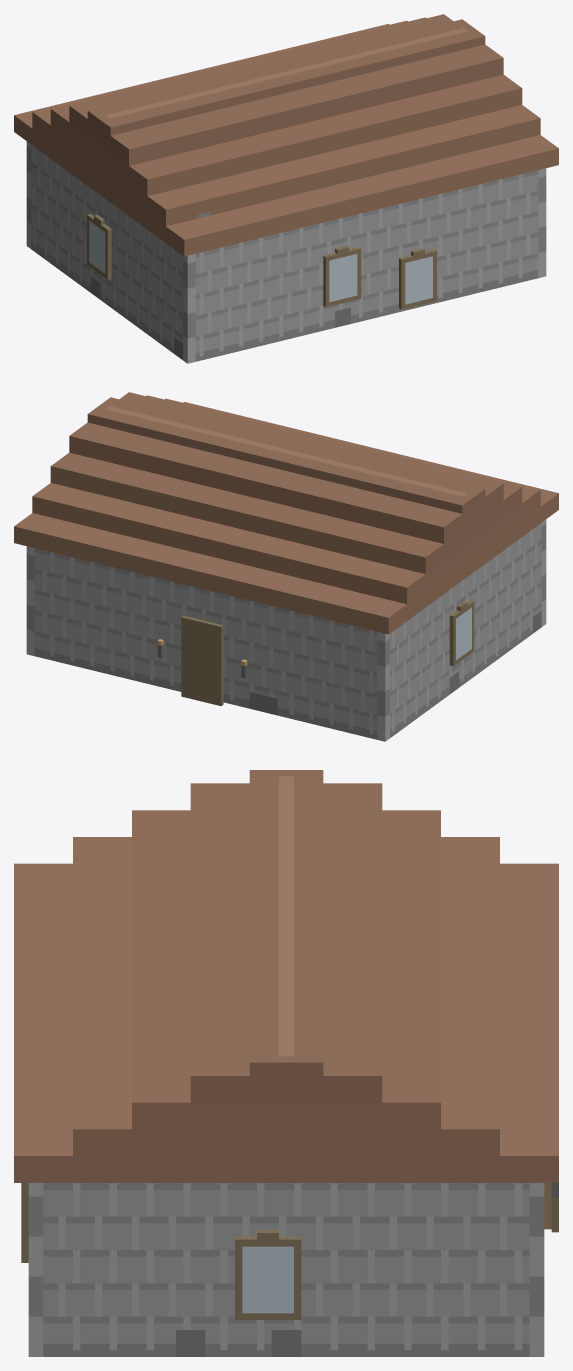
File: ruina_02.glb
3 renders of one model, top to bottom at view 1: azimuth 30°, elevation 25°; view 2: azimuth 150°, elevation 25°; view 3: azimuth 270°, elevation 25°, orthographic. The views are drawn at different scales.
Parts seen in each view (by area): view 1: ruina_02; view 2: ruina_02; view 3: ruina_02.
Boxes of the visible parts, x1=… form: ruina_02: x1=14, y1=14, x2=558, y2=363; ruina_02: x1=14, y1=392, x2=558, y2=741; ruina_02: x1=14, y1=770, x2=558, y2=1356.
Bounding box in the file's own units: 9.4 × 4.5 × 7.4.
